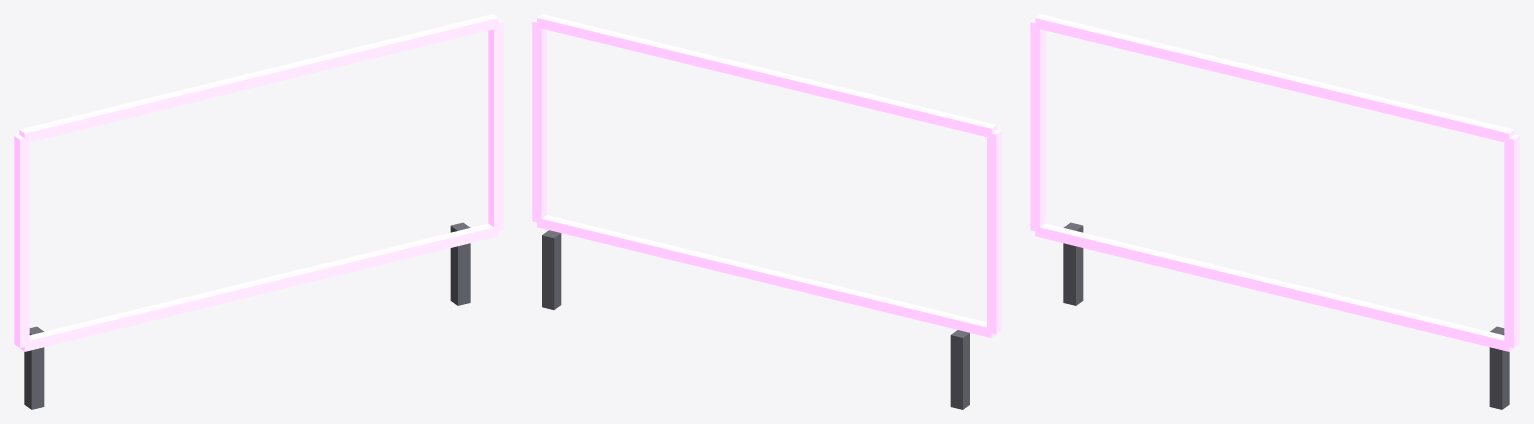
Rendered from crown_billboard_frame.glb.
3 views of the same model, side by side, from view 1: azimuth 30°, elevation 25°; view 2: azimuth 150°, elevation 25°; view 3: azimuth 330°, elevation 25° (orthographic). The views are drawn at different scales.
Visible parts, largest first — view 1: crown_billboard_frame; view 2: crown_billboard_frame; view 3: crown_billboard_frame.
Part boxes in pixels (left/top/right/bottom): crown_billboard_frame: left=14, top=14, right=503, bottom=409; crown_billboard_frame: left=532, top=14, right=1001, bottom=409; crown_billboard_frame: left=1030, top=14, right=1519, bottom=409.
Bounding box in the file's own units: 6.07 × 3.46 × 0.39.
